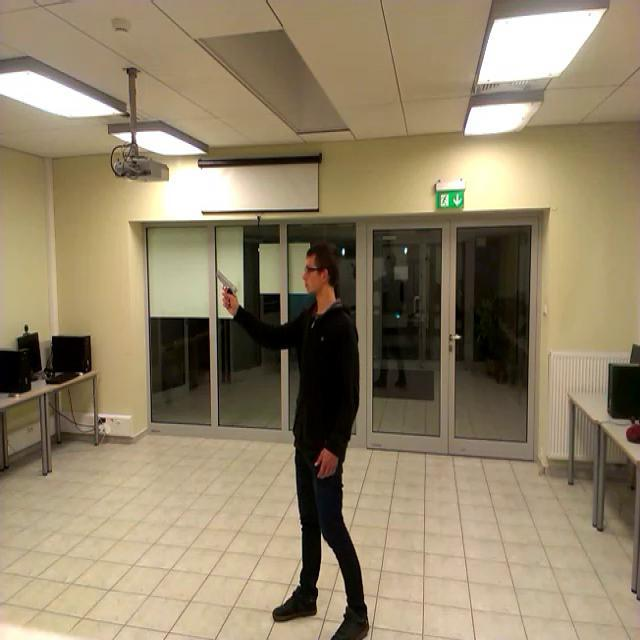Gun: (214, 269, 237, 308)
